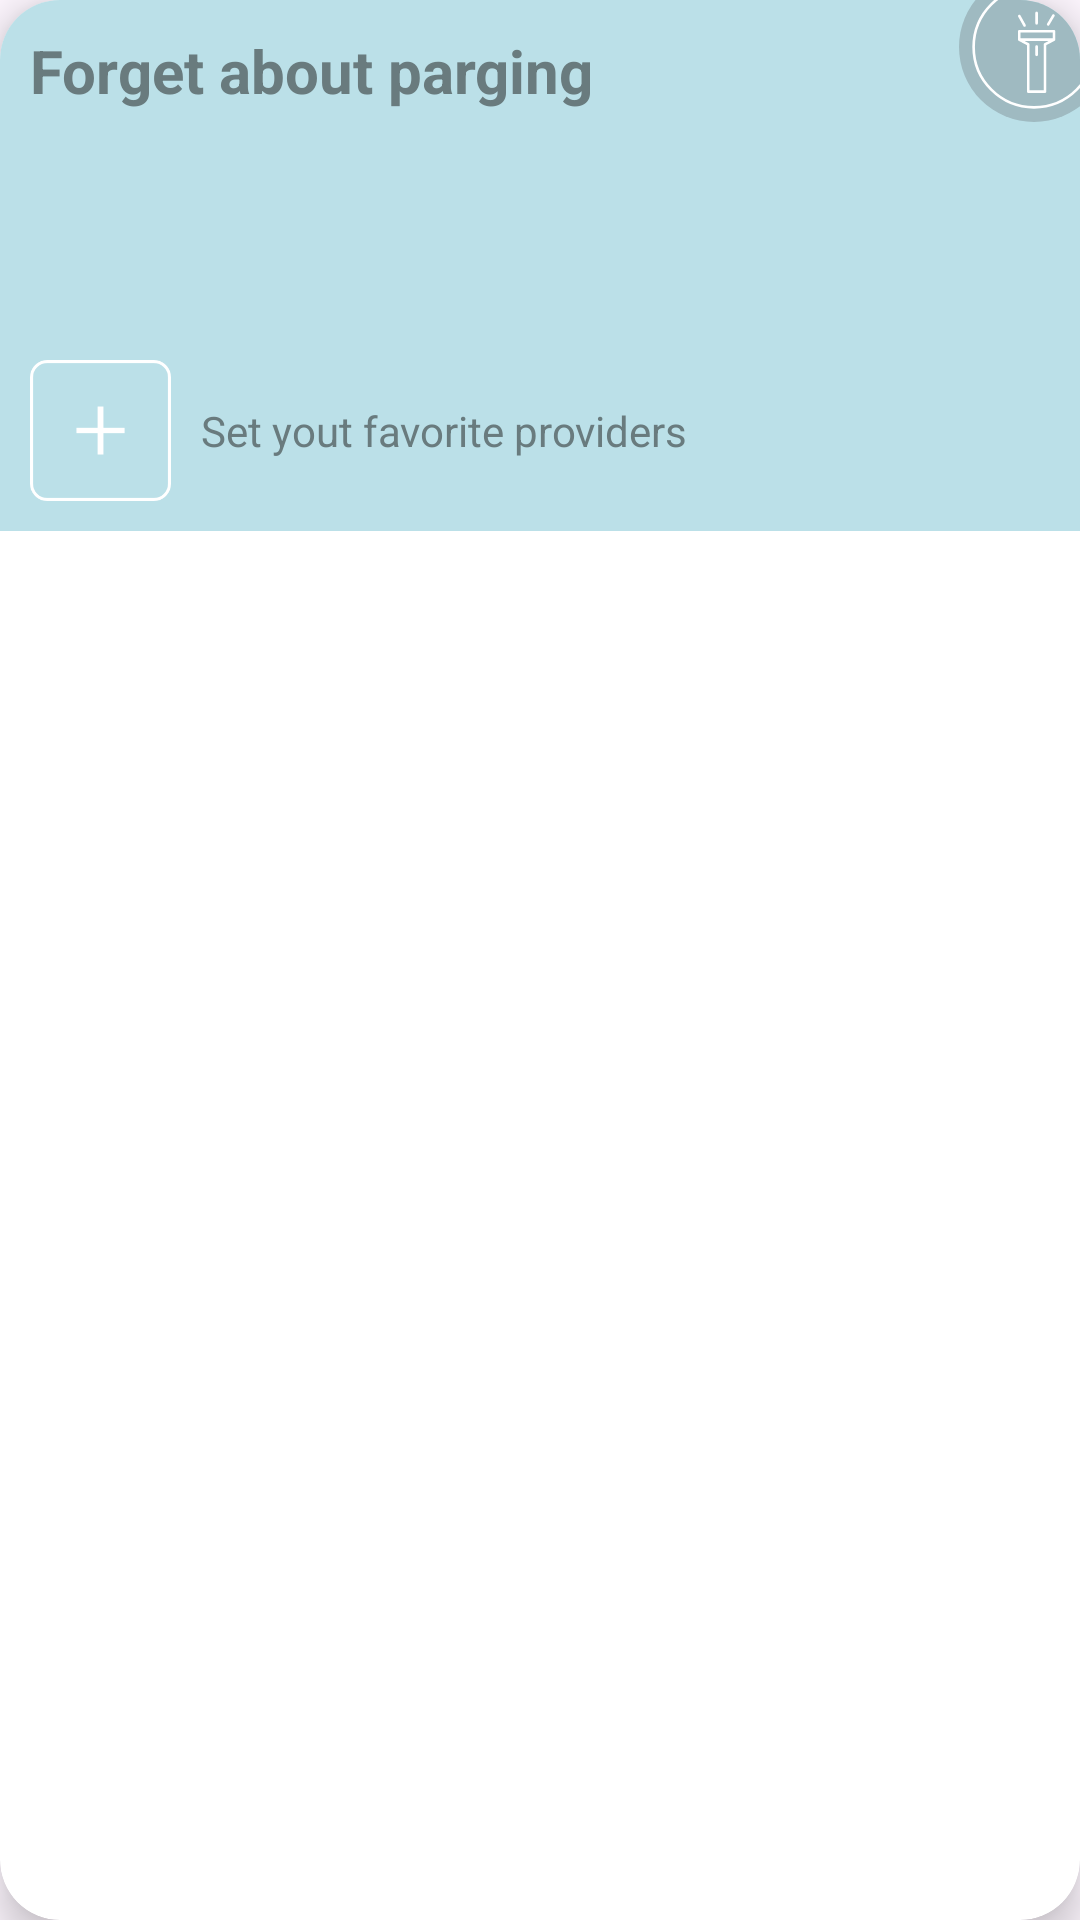

Icons on this 1080 x 1920 Android screen, each with the point to tap as (x,y):
plus: (100,430)
